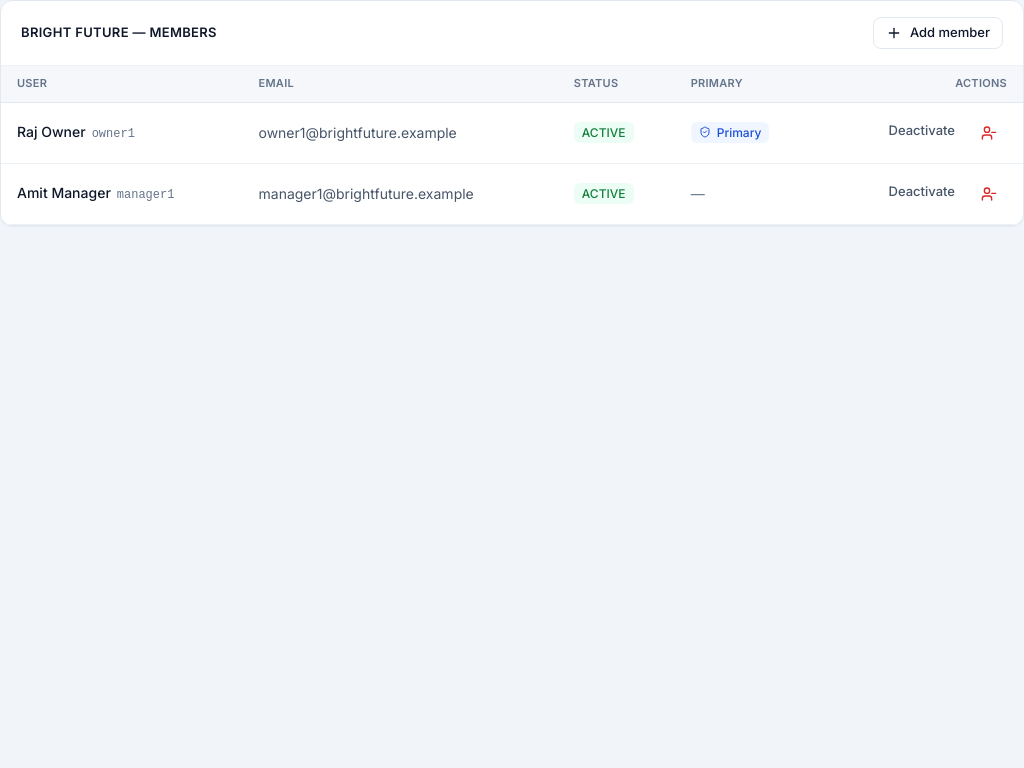
Test: MemberPanel add member › requires a user before submitting
This screenshot has width=1024, height=768.
Step 1. Click the button "Add member" → {"x": 938, "y": 33}, box [873,17,1003,49]
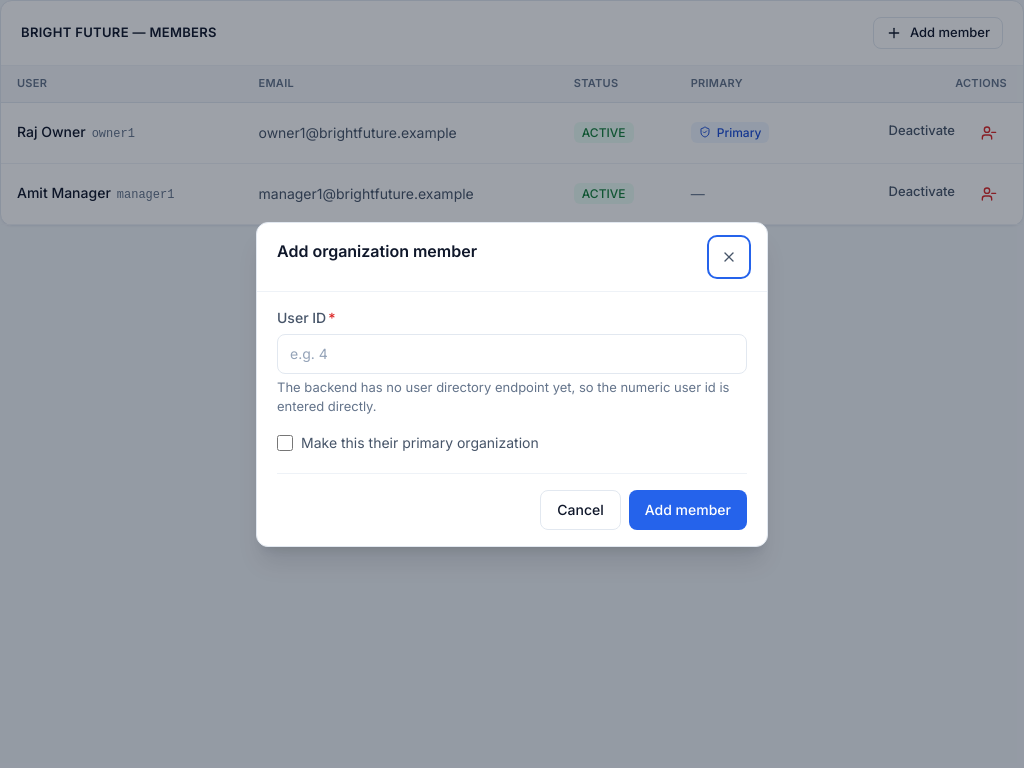
Step 2. Click the button "Add member" → {"x": 688, "y": 510}, box [629,490,747,530]
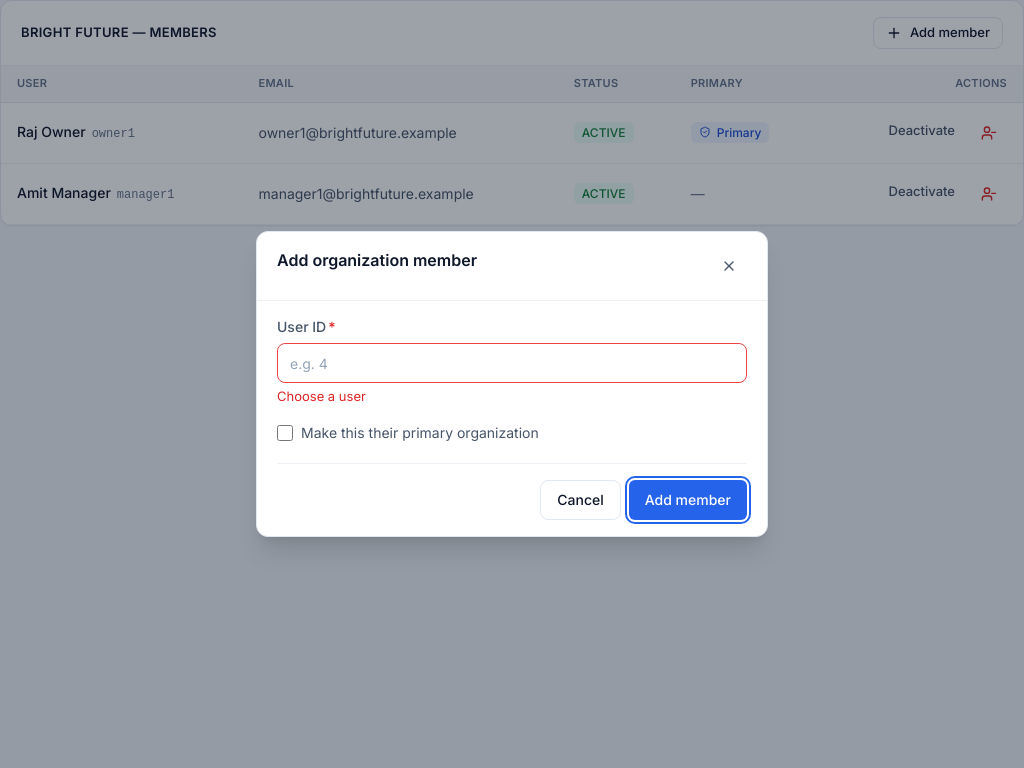
Expected: the text "Choose a user" is shown, [277,388,366,404]
